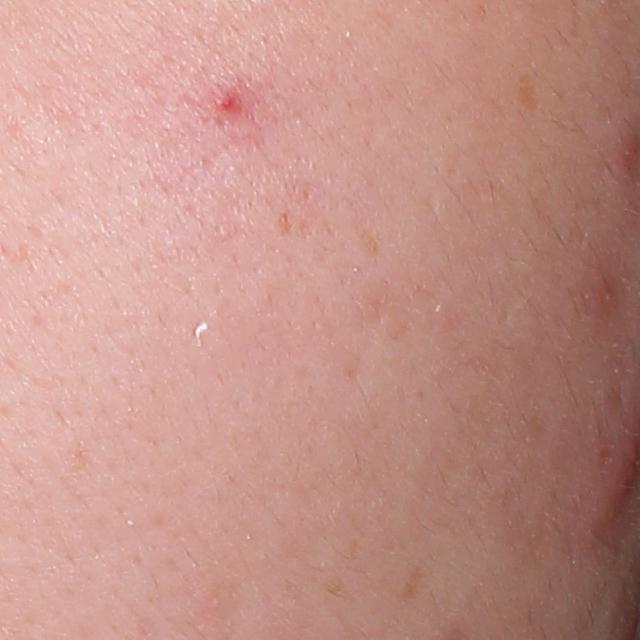melasma: (512, 69, 546, 115)
papule: (215, 88, 242, 111)
